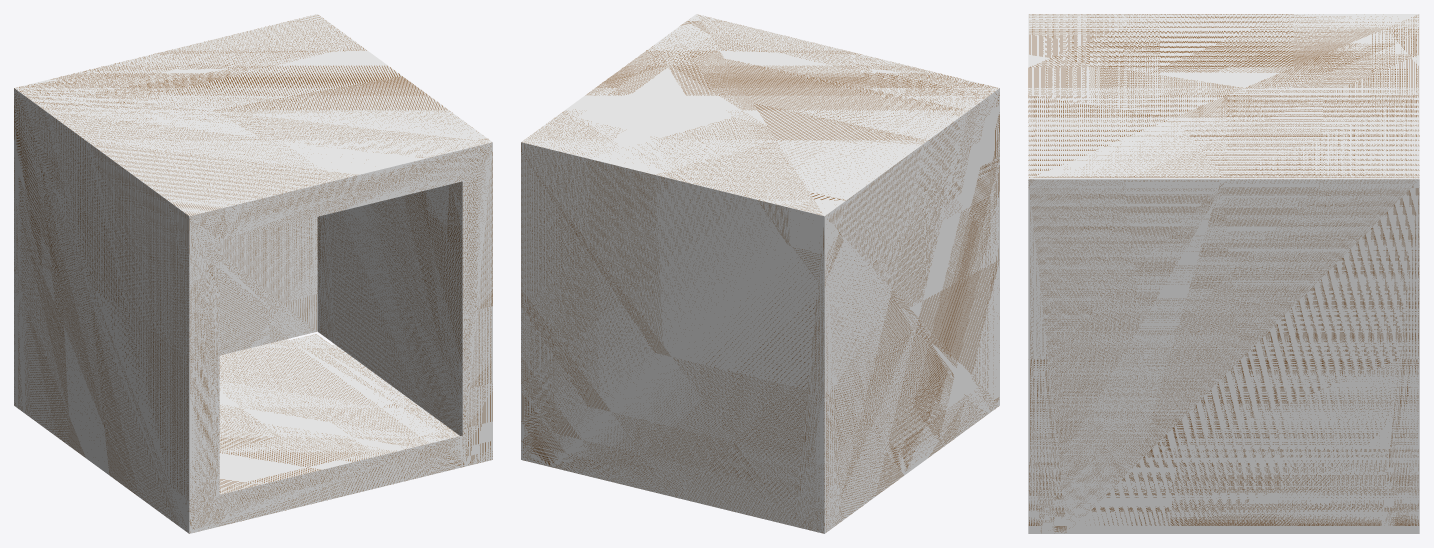
Rendered from original-14.obj.
3 renders of one model, left to right at view 1: azimuth 30°, elevation 25°; view 2: azimuth 150°, elevation 25°; view 3: azimuth 270°, elevation 25°, orthographic. The views are drawn at different scales.
Visible parts, largest first — view 1: 3dw.976cf96169945398af7f76800034f73/Model/Safe1/Safe/mesh1/mesh1; view 2: 3dw.976cf96169945398af7f76800034f73/Model/Safe1/Safe/mesh1/mesh1; view 3: 3dw.976cf96169945398af7f76800034f73/Model/Safe1/Safe/mesh1/mesh1.
Part boxes in pixels (left/top/right/bottom): 3dw.976cf96169945398af7f76800034f73/Model/Safe1/Safe/mesh1/mesh1: left=14, top=14, right=492, bottom=533; 3dw.976cf96169945398af7f76800034f73/Model/Safe1/Safe/mesh1/mesh1: left=521, top=14, right=999, bottom=533; 3dw.976cf96169945398af7f76800034f73/Model/Safe1/Safe/mesh1/mesh1: left=1028, top=14, right=1419, bottom=533.
Size of the model in its own units: 1.11 by 1.11 by 1.11.
